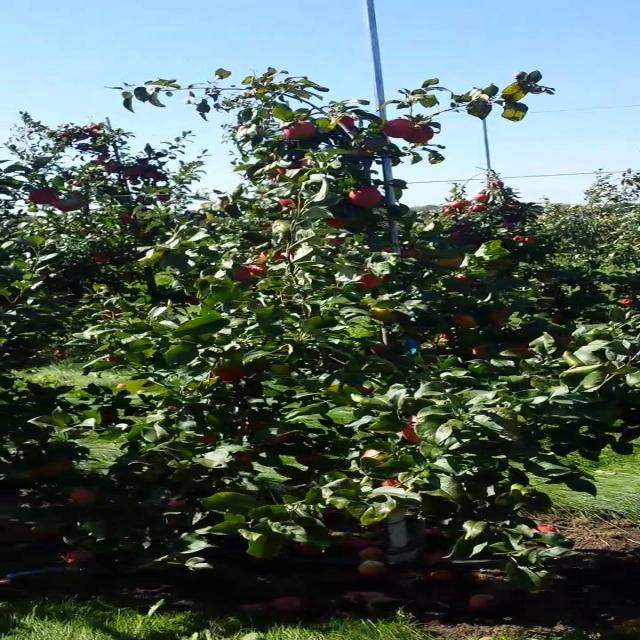apple: (348, 188, 384, 208), (276, 160, 313, 176), (383, 120, 412, 140), (234, 264, 268, 281), (284, 124, 320, 140), (70, 488, 100, 505), (42, 460, 73, 476), (212, 368, 247, 382), (404, 128, 434, 144), (404, 420, 421, 446), (369, 308, 398, 323), (433, 256, 466, 268), (362, 448, 388, 463), (28, 192, 57, 205), (362, 276, 389, 289), (511, 344, 533, 359), (490, 308, 512, 322), (262, 252, 292, 262), (20, 468, 43, 481), (269, 364, 292, 376), (454, 316, 476, 328), (56, 200, 78, 212), (397, 248, 420, 259), (298, 456, 320, 467), (476, 344, 491, 360), (369, 344, 389, 355), (269, 436, 292, 445), (340, 116, 356, 128), (241, 452, 256, 464), (326, 220, 348, 228), (198, 436, 220, 444), (454, 276, 471, 286), (383, 480, 404, 488), (284, 200, 302, 208), (326, 240, 347, 246), (497, 260, 519, 265), (362, 388, 375, 396), (625, 300, 635, 307), (99, 256, 107, 263), (440, 336, 450, 341)
